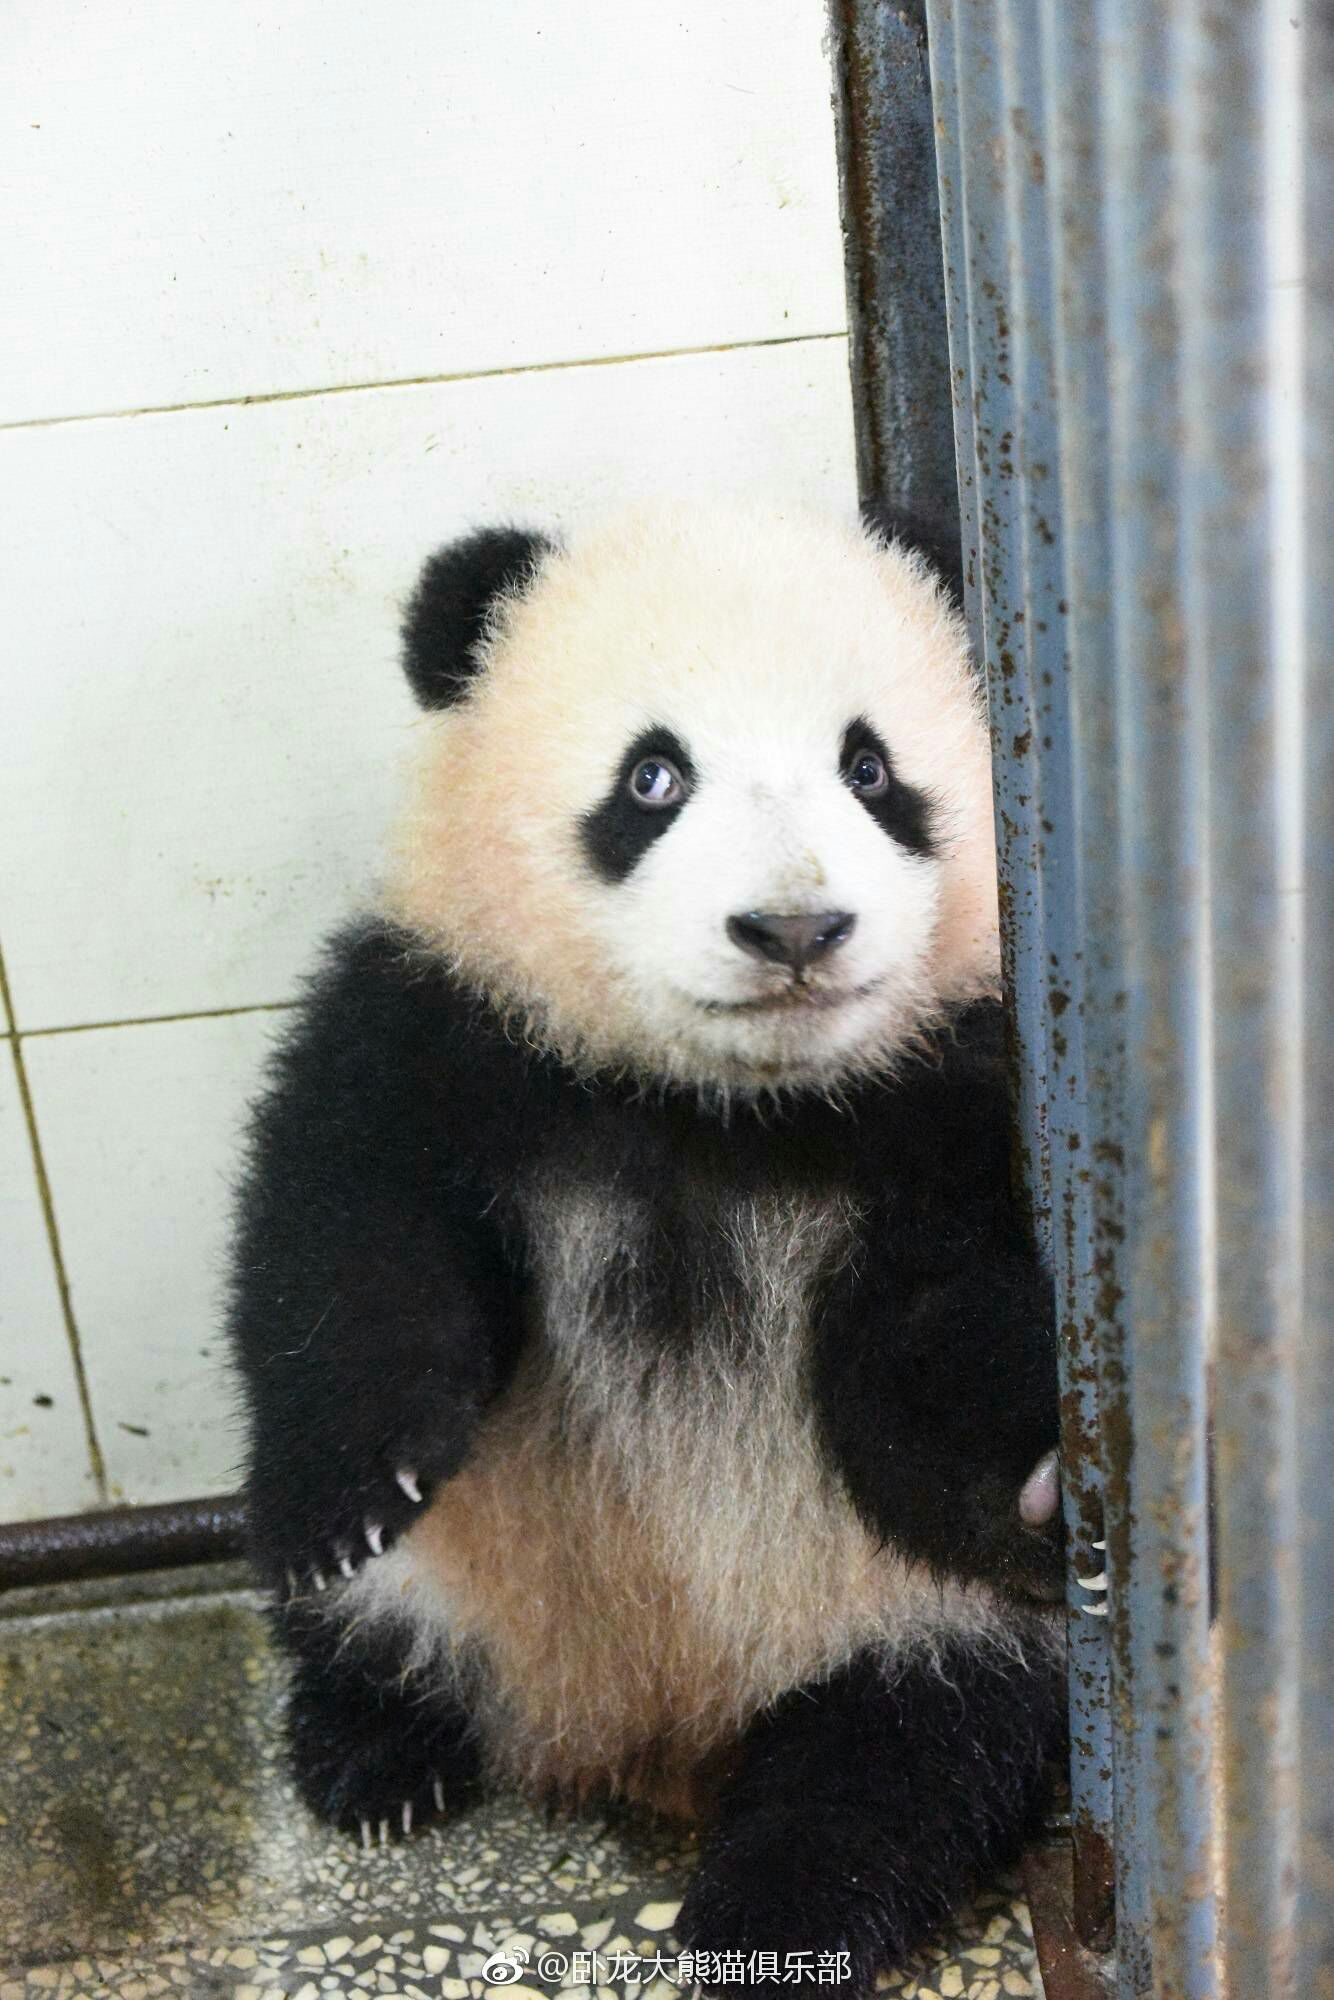panda: (217, 473, 1145, 1929)
